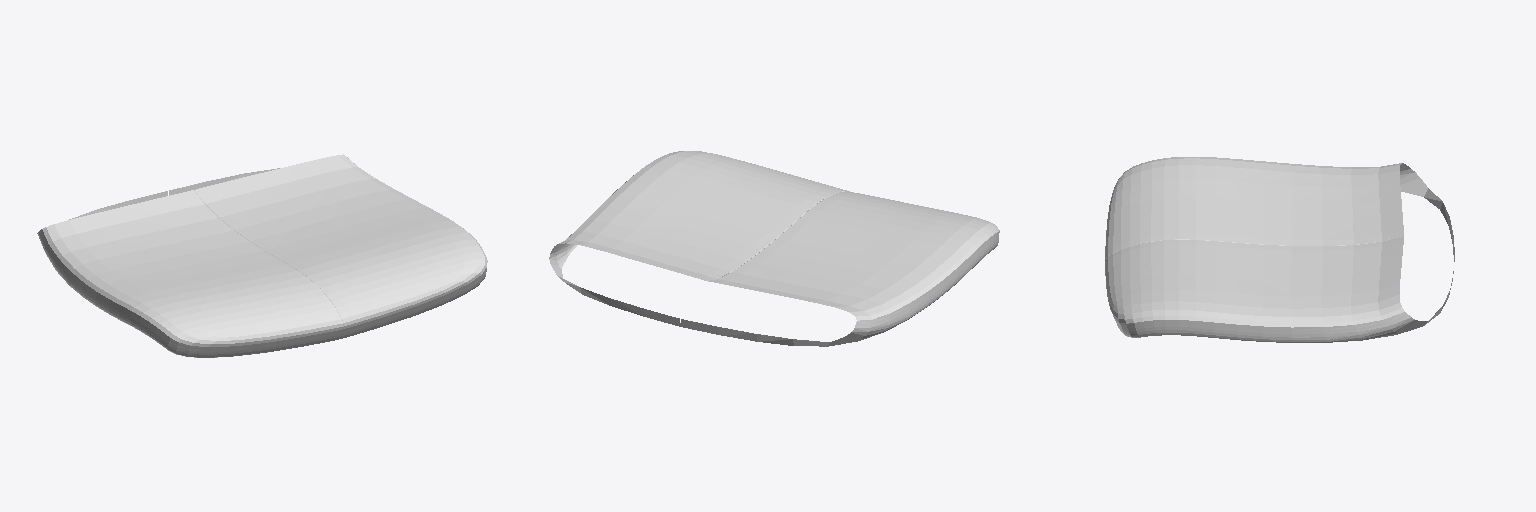
The model's file is seat.obj.
3 views of the same model, side by side, from view 1: azimuth 30°, elevation 25°; view 2: azimuth 150°, elevation 25°; view 3: azimuth 270°, elevation 25° (orthographic).
Parts seen in each view (by area): view 1: seat; view 2: seat; view 3: seat.
Part boxes in pixels (left/top/right/bottom): seat: left=37, top=154, right=487, bottom=357; seat: left=549, top=151, right=999, bottom=346; seat: left=1105, top=157, right=1454, bottom=342.
Bounding box in the file's own units: 20.79 × 2.74 × 18.67.